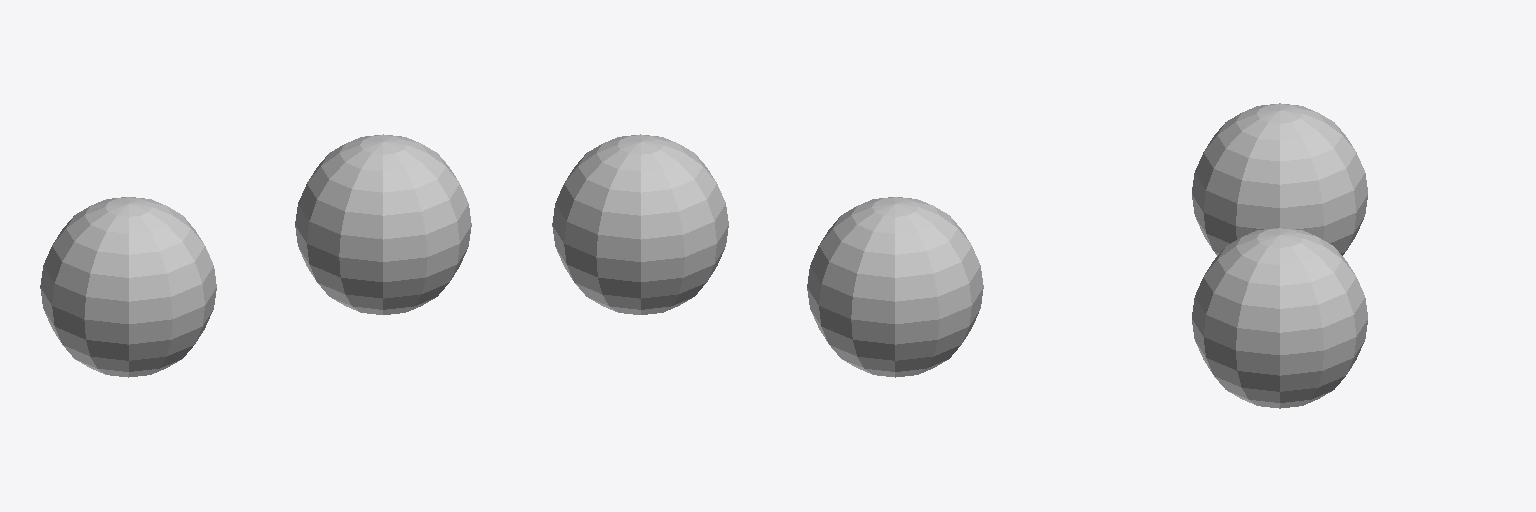
The model's file is Faith_eyes.obj.
3 views of the same model, side by side, from view 1: azimuth 30°, elevation 25°; view 2: azimuth 150°, elevation 25°; view 3: azimuth 270°, elevation 25° (orthographic).
Size of the model in its own units: 0.4324 by 0.1686 by 0.1623.